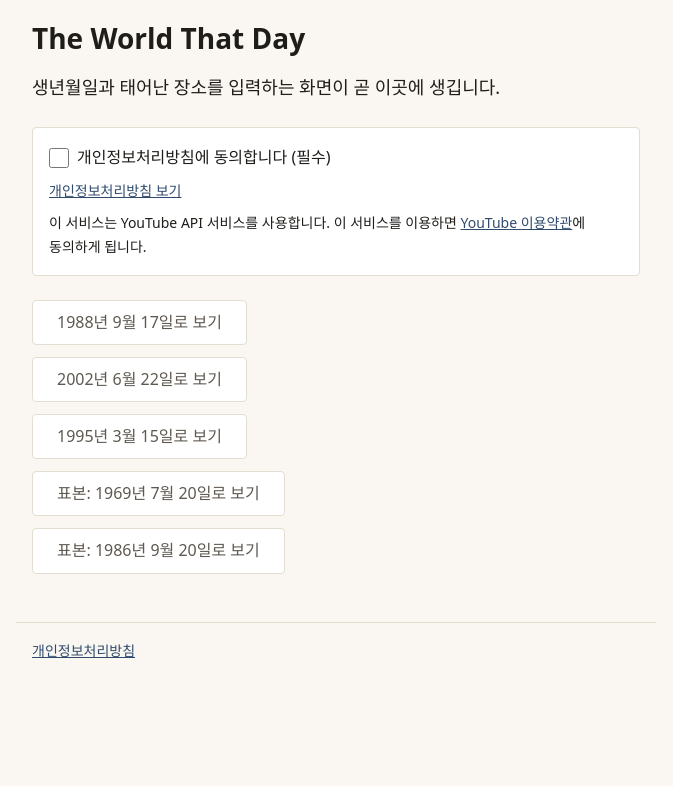
Scenario: demo 1988-09-17 (데모 표 1행) › today’s server shape: the same three events and no img
Click the checkbox labelled "개인정보처리방침에 동의합니다 (필수)".
click(59, 158)  # box [49,148,69,168]
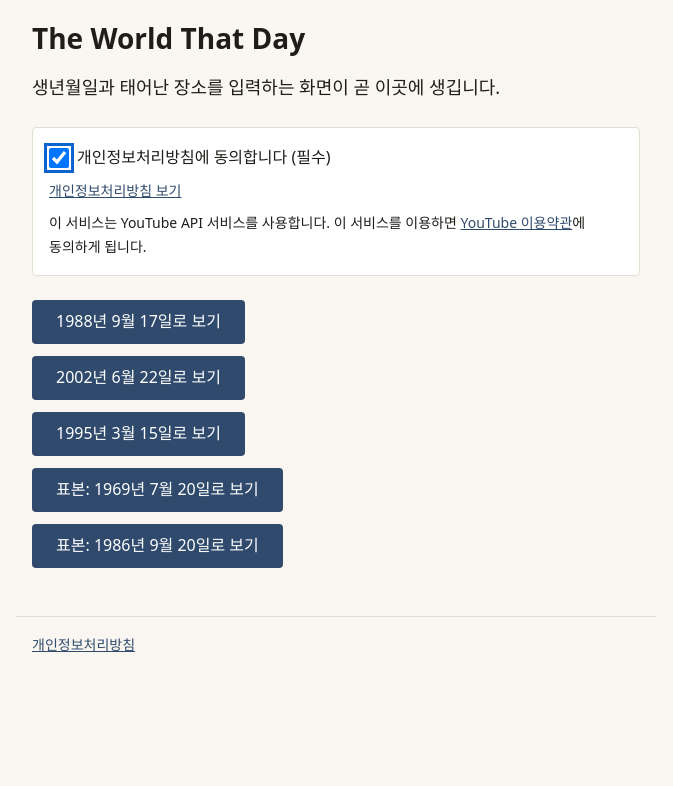
Click the button "1988년 9월 17일로 보기".
click(138, 322)  # box [32,300,245,344]
(page scrolled)
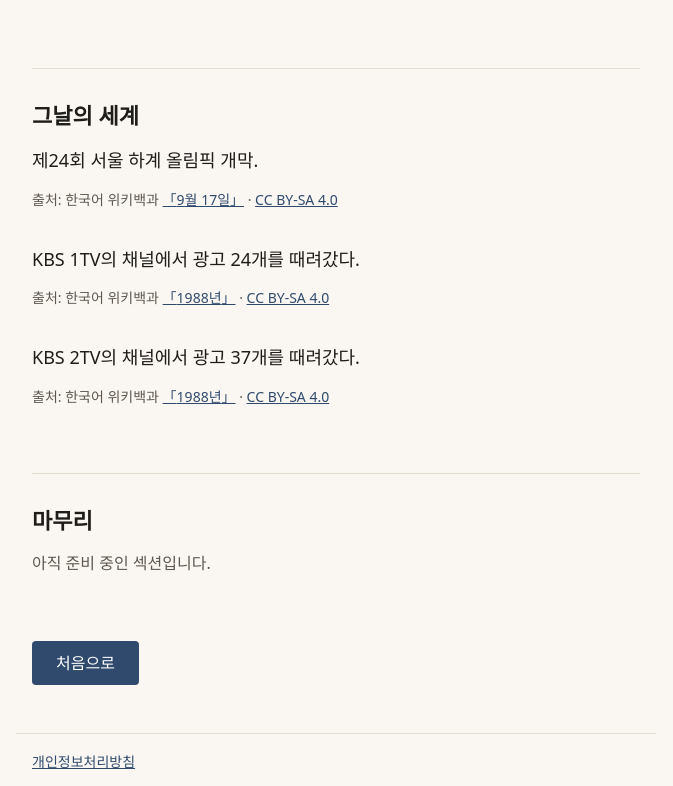
Result: the number of list items is 3 at [32,148,431,209]; [32,247,422,307]; [32,345,422,406]
